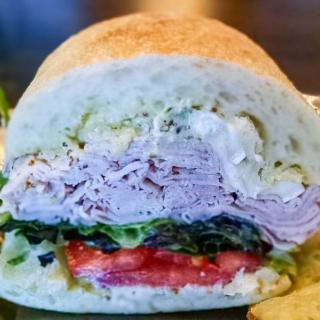Bread: (2, 23, 308, 292), (0, 255, 293, 312)
